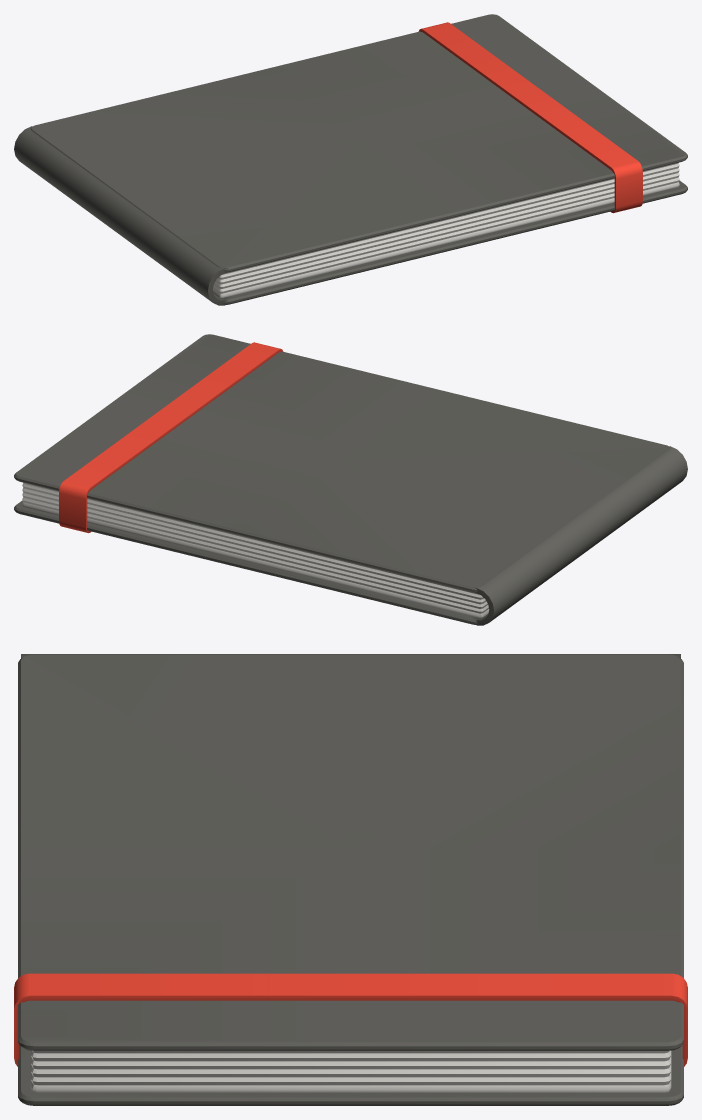
File: sketchbook-notebook.glb
3 renders of one model, top to bottom at view 1: azimuth 30°, elevation 25°; view 2: azimuth 150°, elevation 25°; view 3: azimuth 270°, elevation 25°, orthographic. The views are drawn at different scales.
Parts seen in each view (by area): view 1: sketchbook-notebook; view 2: sketchbook-notebook; view 3: sketchbook-notebook.
Part boxes in pixels (x1,y1,x2,y2): sketchbook-notebook: [14, 14, 687, 305]; sketchbook-notebook: [14, 334, 687, 625]; sketchbook-notebook: [14, 654, 687, 1105].
Size of the model in its own units: 1.23 by 0.1097 by 0.8754.
